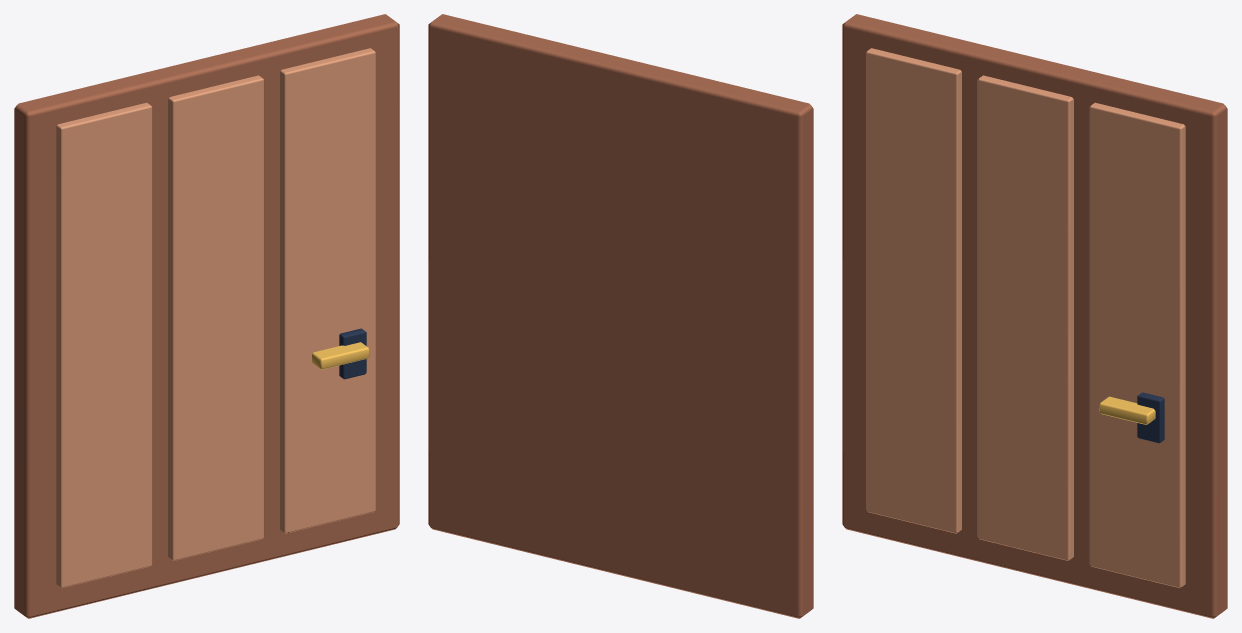
The model's file is manager_door.glb.
3 renders of one model, left to right at view 1: azimuth 30°, elevation 25°; view 2: azimuth 150°, elevation 25°; view 3: azimuth 330°, elevation 25°, orthographic.
Parts seen in each view (by area): view 1: manager_door; view 2: manager_door; view 3: manager_door.
Part boxes in pixels (left/top/right/bottom): manager_door: left=14, top=14, right=399, bottom=618; manager_door: left=428, top=14, right=813, bottom=618; manager_door: left=842, top=14, right=1227, bottom=618.
Bounding box in the file's own units: 2.35 × 3.04 × 0.355.
